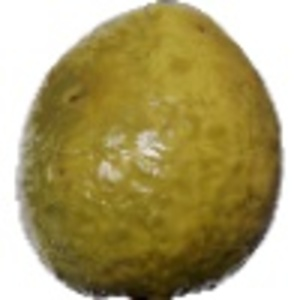goiaba: (9, 5, 290, 296)
